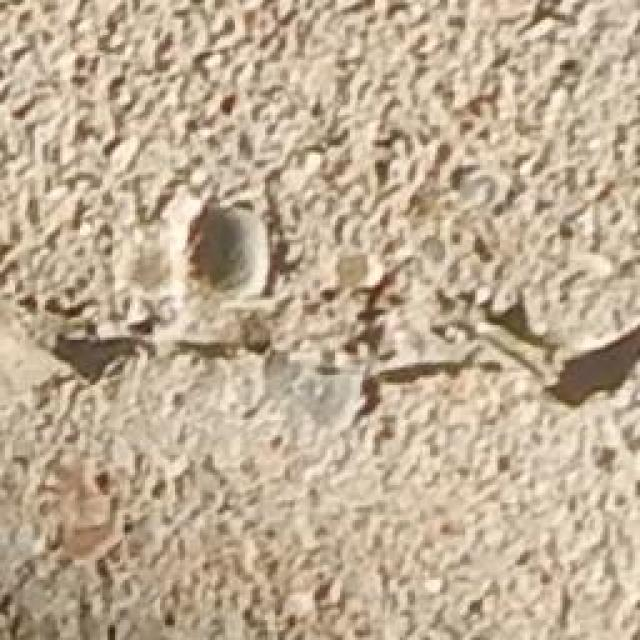concrete-crack: (3, 246, 640, 425), (183, 206, 267, 293)
